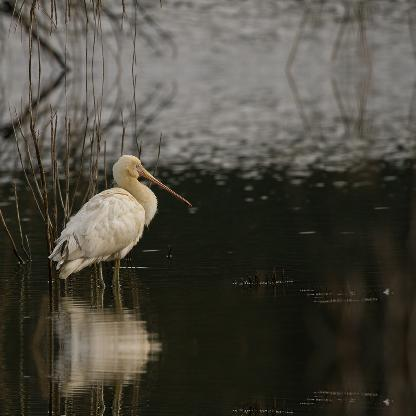Bird: (53, 156, 172, 300)
